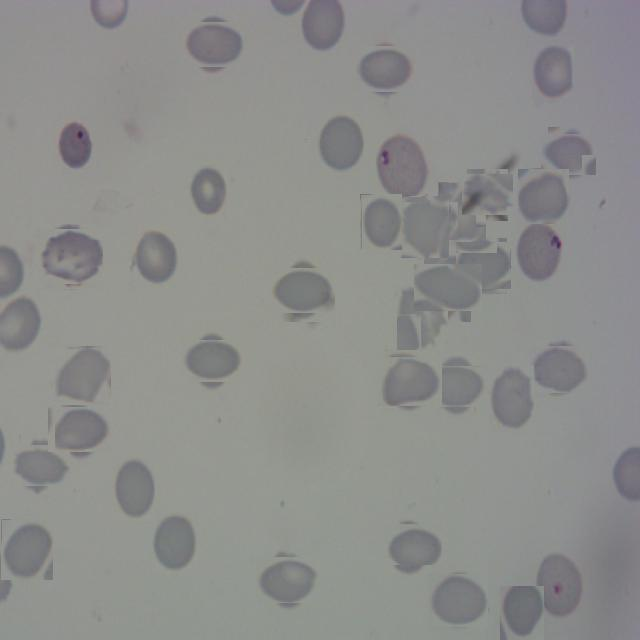leukocyte: (40, 226, 100, 286), (396, 285, 448, 350), (418, 258, 476, 316), (429, 572, 486, 629), (382, 352, 438, 410), (1, 519, 53, 580), (260, 552, 315, 608), (52, 402, 108, 457), (54, 348, 110, 403), (489, 364, 534, 432), (276, 262, 330, 318), (401, 196, 449, 258), (111, 456, 156, 521), (533, 342, 587, 396), (517, 168, 569, 224), (317, 112, 364, 173), (187, 18, 240, 72), (152, 513, 198, 574), (438, 182, 486, 240), (359, 43, 411, 96), (186, 335, 238, 387), (133, 228, 179, 286), (458, 240, 509, 292), (15, 440, 66, 490), (430, 361, 480, 412), (388, 520, 438, 570), (544, 130, 594, 179), (500, 586, 544, 640), (360, 194, 402, 250), (532, 46, 574, 101), (464, 172, 510, 218), (188, 162, 227, 216)
